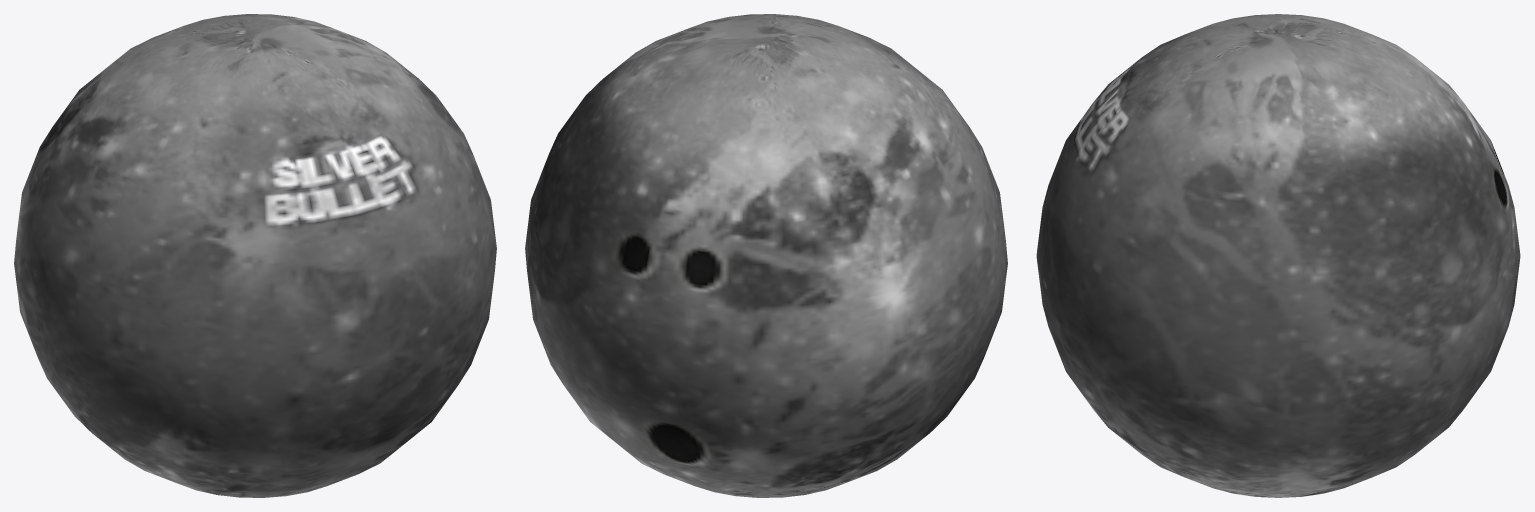
Rendered from Ball07.fbx.
3 renders of one model, left to right at view 1: azimuth 30°, elevation 25°; view 2: azimuth 150°, elevation 25°; view 3: azimuth 270°, elevation 25°, orthographic.
Visible parts, largest first — view 1: Empty_Mesh; view 2: Empty_Mesh; view 3: Empty_Mesh.
Part boxes in pixels (x1,y1,x2,y2): Empty_Mesh: (14, 14, 496, 497); Empty_Mesh: (525, 14, 1007, 497); Empty_Mesh: (1036, 14, 1520, 497).
Bounding box in the file's own units: 0.2266 × 0.2266 × 0.2266.
